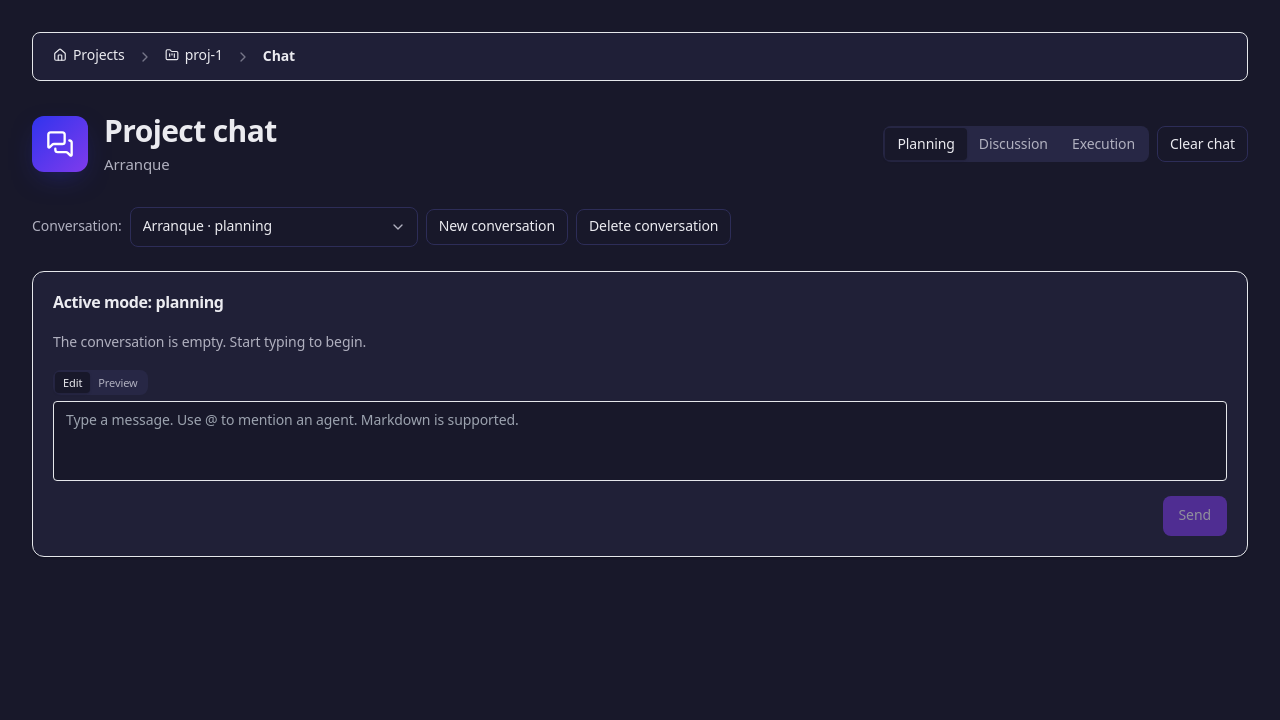
Test: projects/[id]/chat — chat del proyecto › la pestaña de vista previa del composer también cambia de idioma
Expected: the tab with test id "chat-input-tab-edit" reads "Edit", x1=55 y1=372 x2=90 y2=393
Click the tab with test id "chat-input-tab-preview": x=118, y=382 x1=90 y1=372 x2=146 y2=393
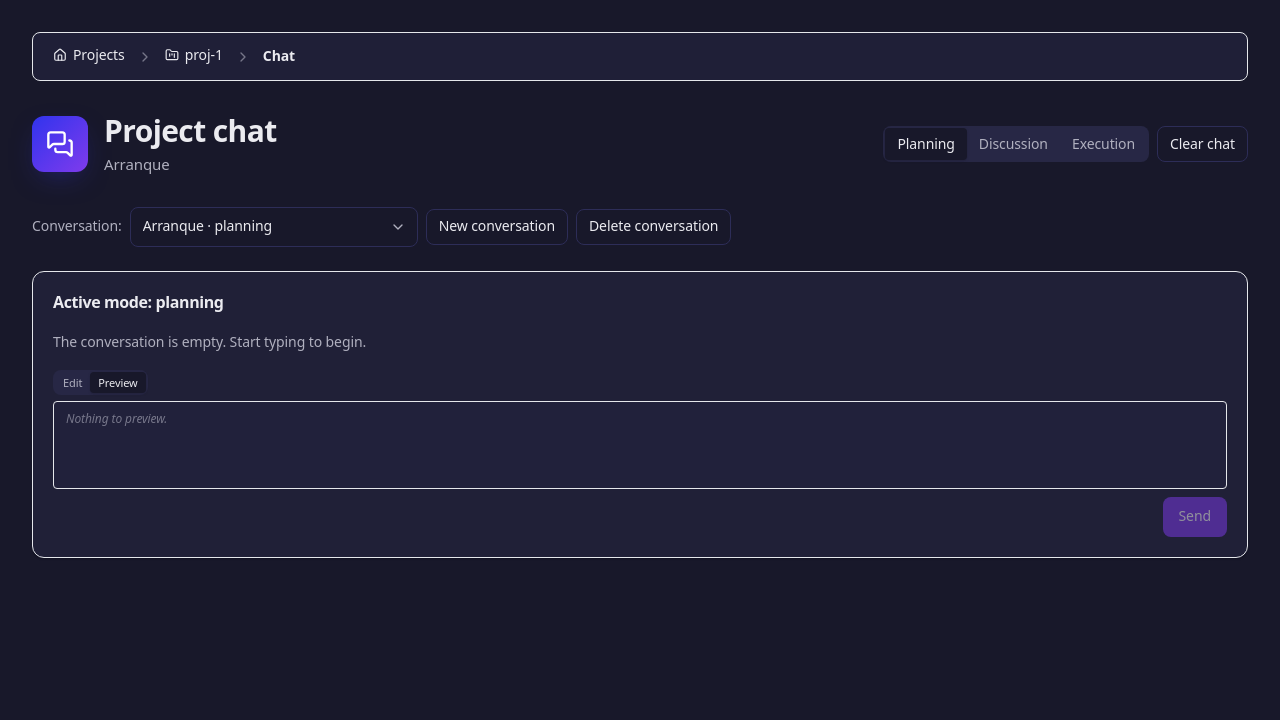
Expected: the element with test id "chat-input-preview" reads "Nothing to preview.", x1=66 y1=410 x2=167 y2=427
